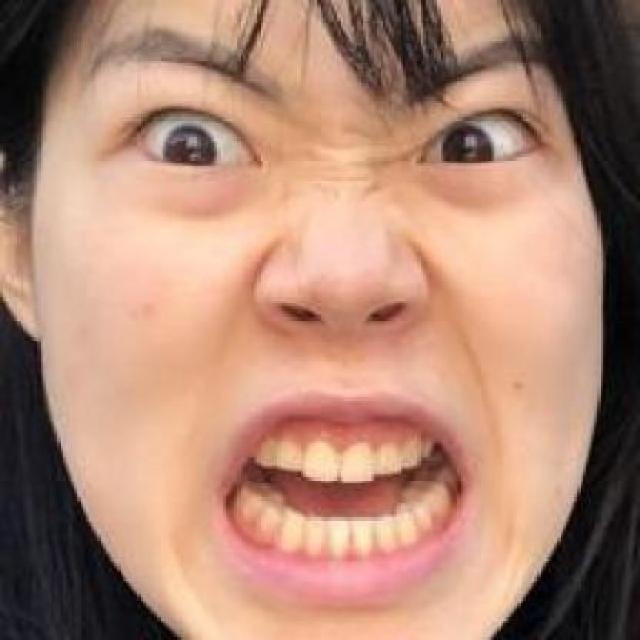angry: (112, 33, 543, 632)
